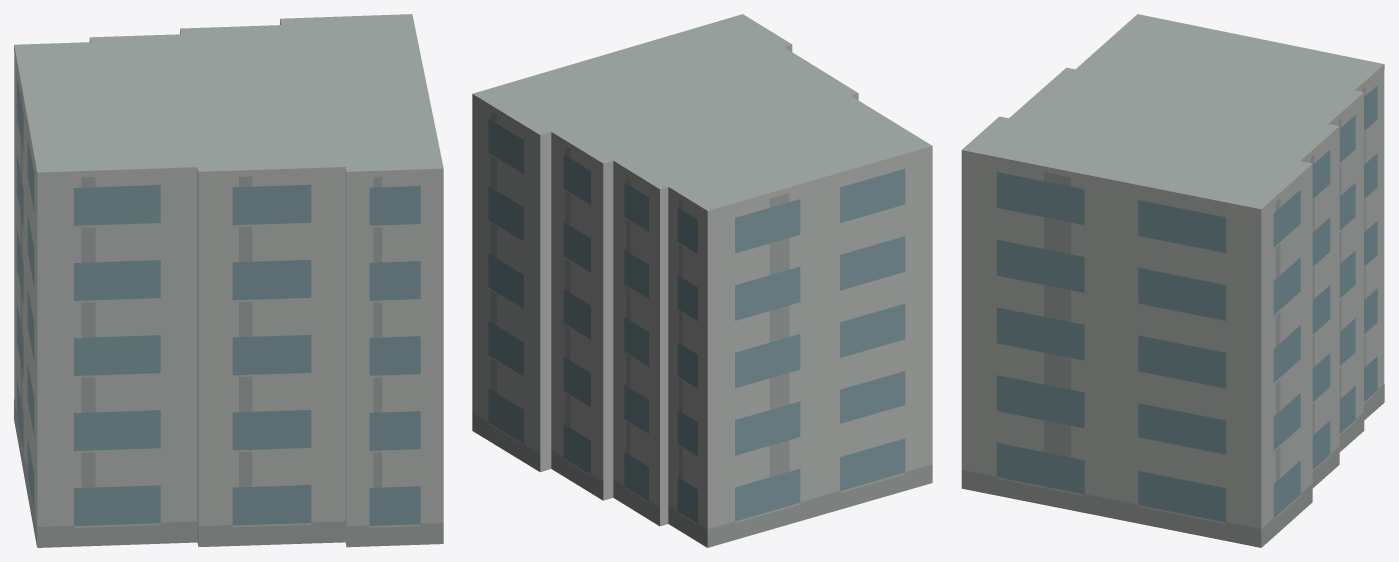
The model's file is survey-upis-32874625.glb.
3 renders of one model, left to right at view 1: azimuth 30°, elevation 25°; view 2: azimuth 150°, elevation 25°; view 3: azimuth 270°, elevation 25°, orthographic. The views are drawn at different scales.
Parts seen in each view (by area): view 1: survey-upis-32874625.tmp; view 2: survey-upis-32874625.tmp; view 3: survey-upis-32874625.tmp.
Part boxes in pixels (left/top/right/bottom): survey-upis-32874625.tmp: left=14, top=14, right=443, bottom=547; survey-upis-32874625.tmp: left=472, top=14, right=932, bottom=547; survey-upis-32874625.tmp: left=961, top=14, right=1384, bottom=547.
Bounding box in the file's own units: 17.83 × 14.4 × 16.31.
